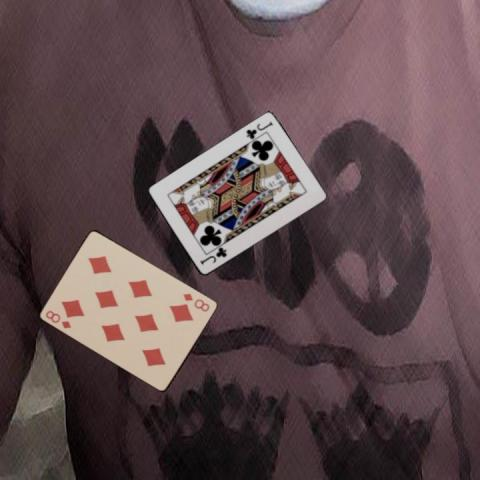8d: (180, 290, 211, 313), (42, 307, 73, 330)
Jc: (197, 245, 228, 267), (243, 119, 274, 141)
